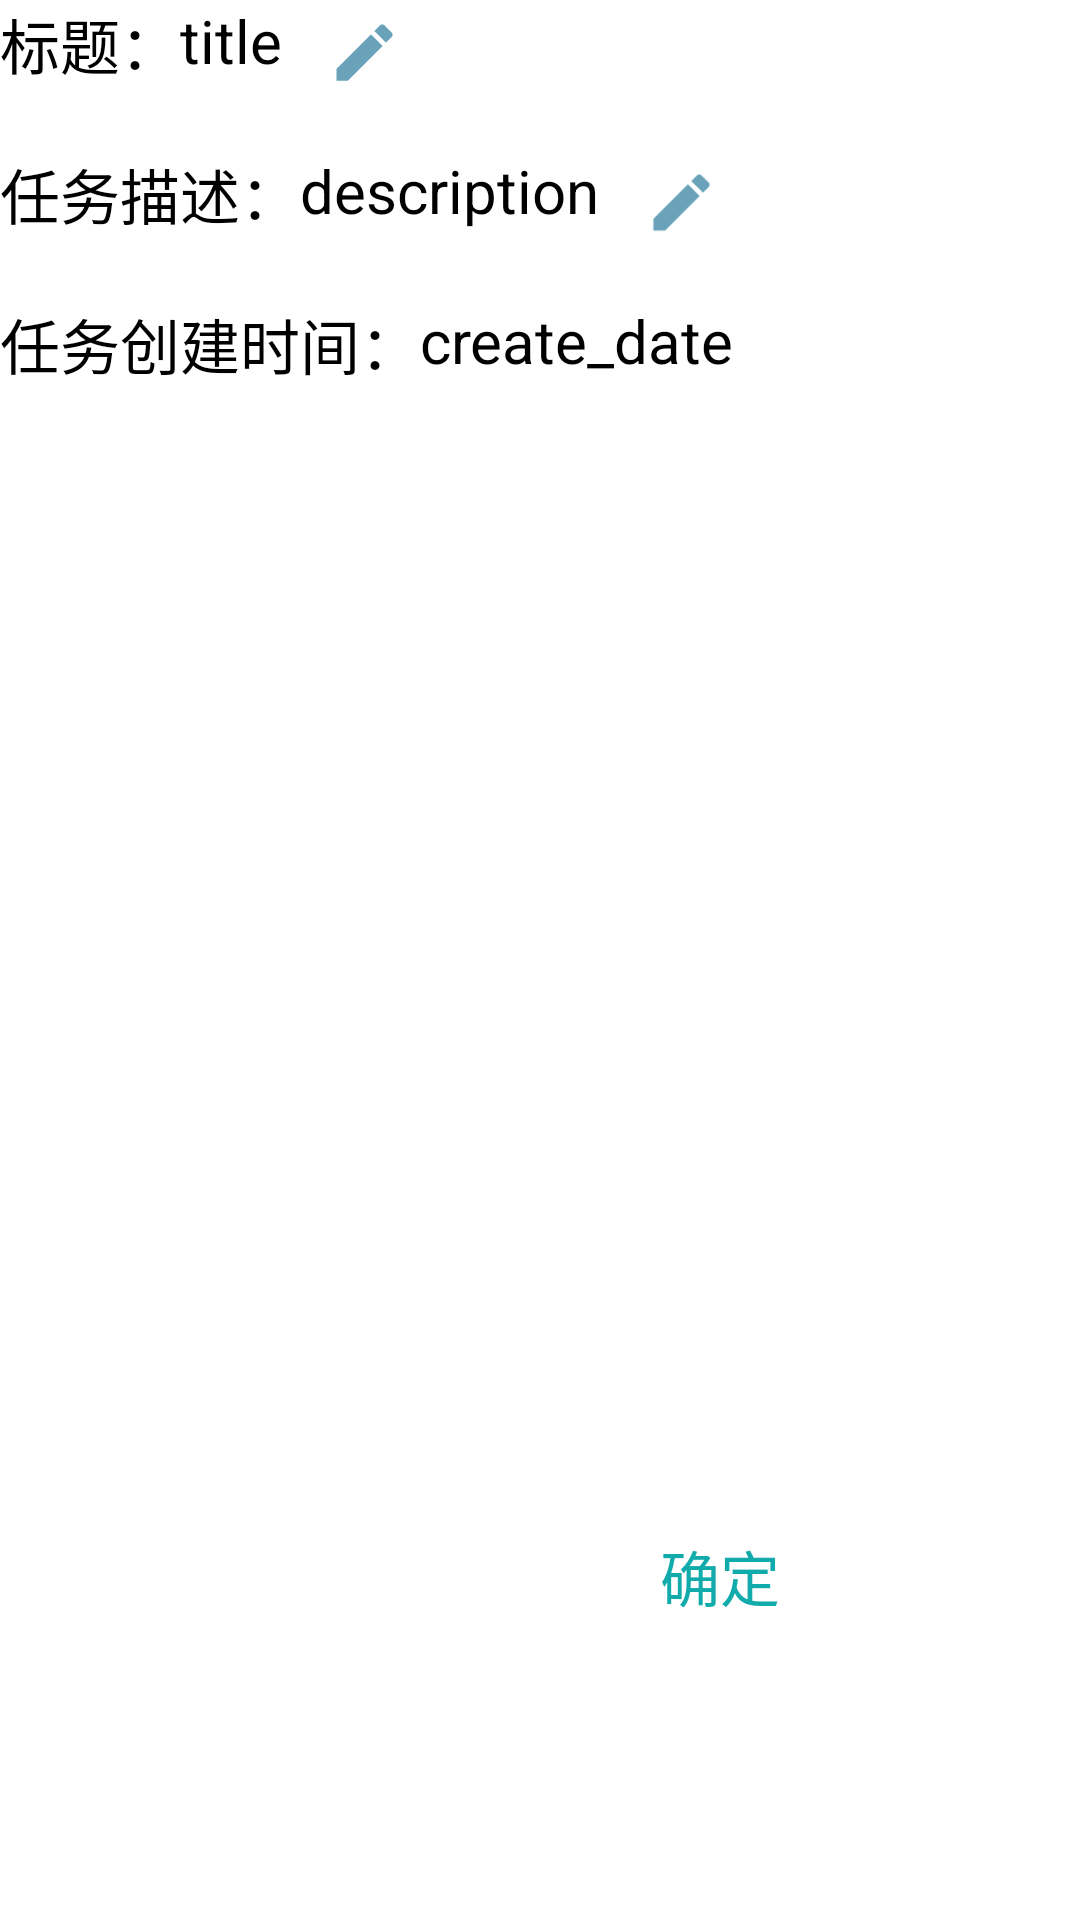

Point at icon controls on the screen. Image size 1080w x 1920h, points as (x=x, y=y).
edit: (x=364, y=52), (x=681, y=202)
